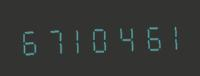four: (109, 19, 131, 54)
one: (63, 21, 85, 56), (155, 18, 177, 53)
seven: (40, 22, 62, 57)
six: (17, 22, 39, 58), (132, 18, 154, 54)
zero: (86, 20, 108, 55)
